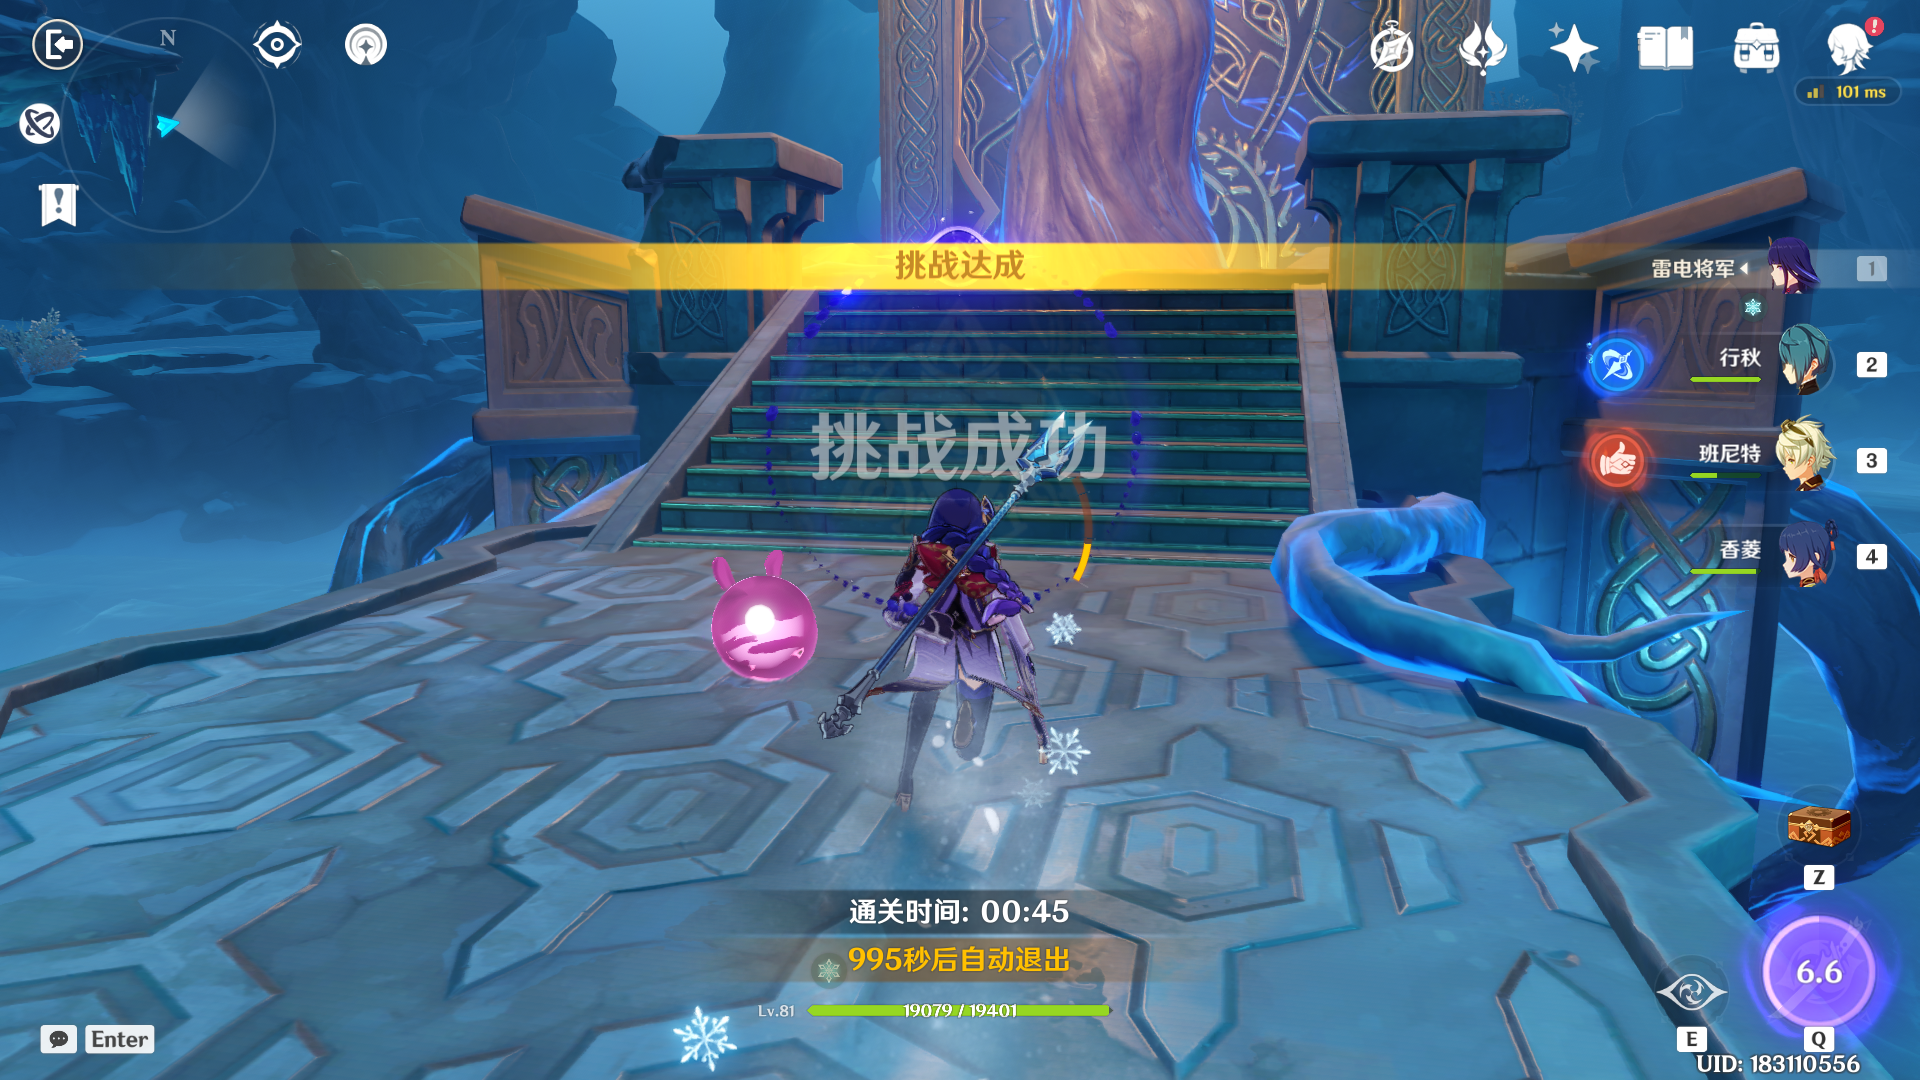character: (833, 477, 1065, 819)
